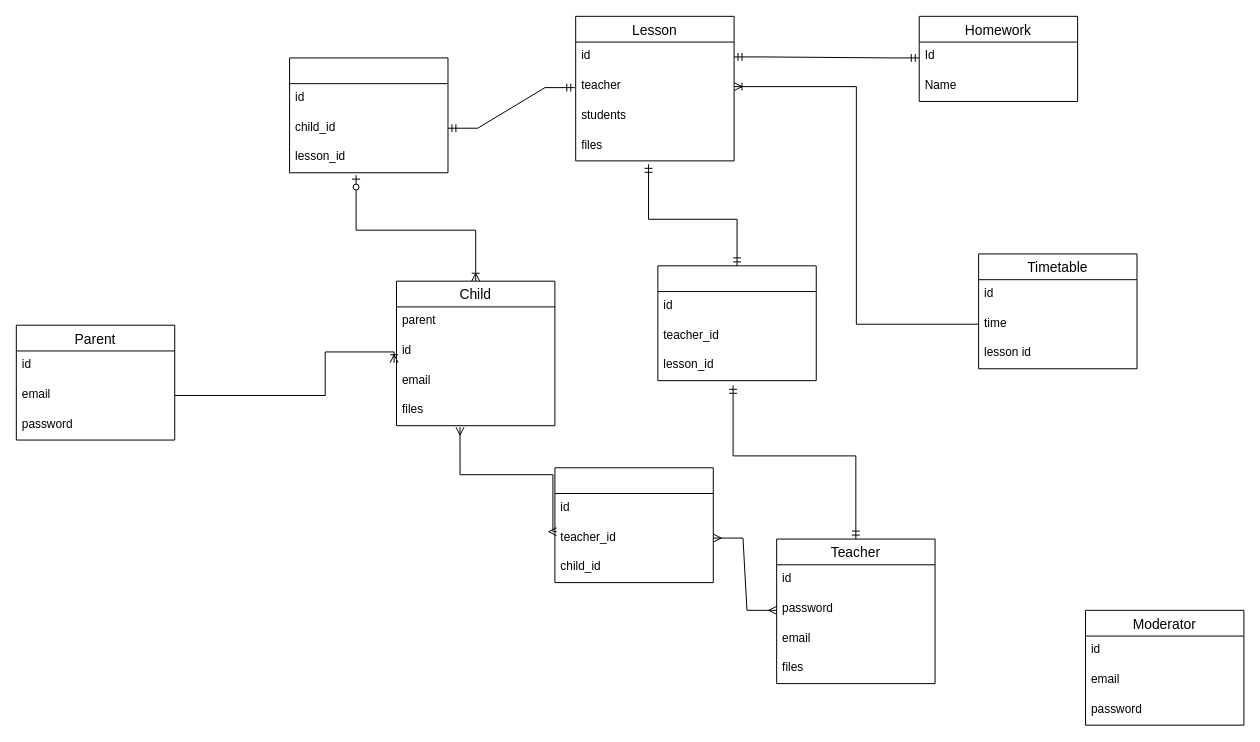
Image size: 1260x742. Some labels were removed from this diagram. The shapes that lost their labels are listed below. From the top down, each one's box as (x1, y1, x2, y2) in pixels, then its label:
(289, 57, 448, 173): Child_Lesson
(657, 265, 816, 381): Teacher_Lesson
(554, 467, 713, 583): Child_Teacher
